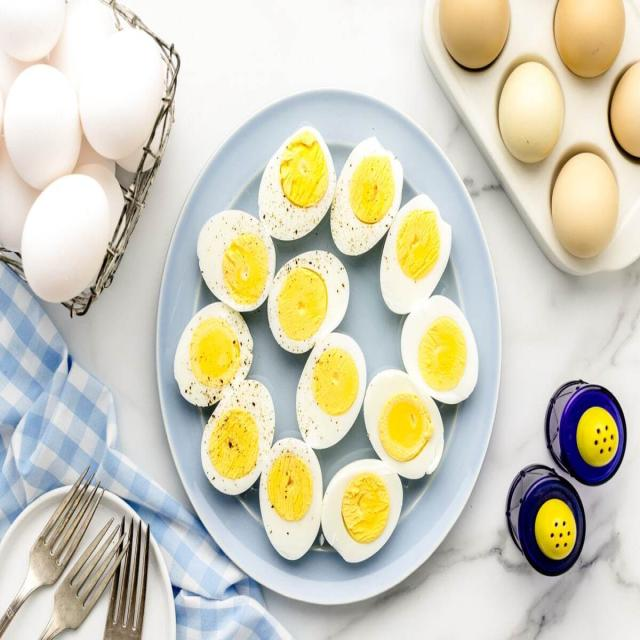trung luoc: (259, 127, 335, 240), (364, 370, 443, 478), (380, 194, 451, 313), (268, 250, 349, 354), (331, 138, 403, 255), (201, 379, 274, 494), (321, 459, 402, 562), (401, 295, 478, 403), (174, 302, 253, 407), (296, 333, 366, 449), (197, 210, 275, 312), (259, 438, 322, 559)
